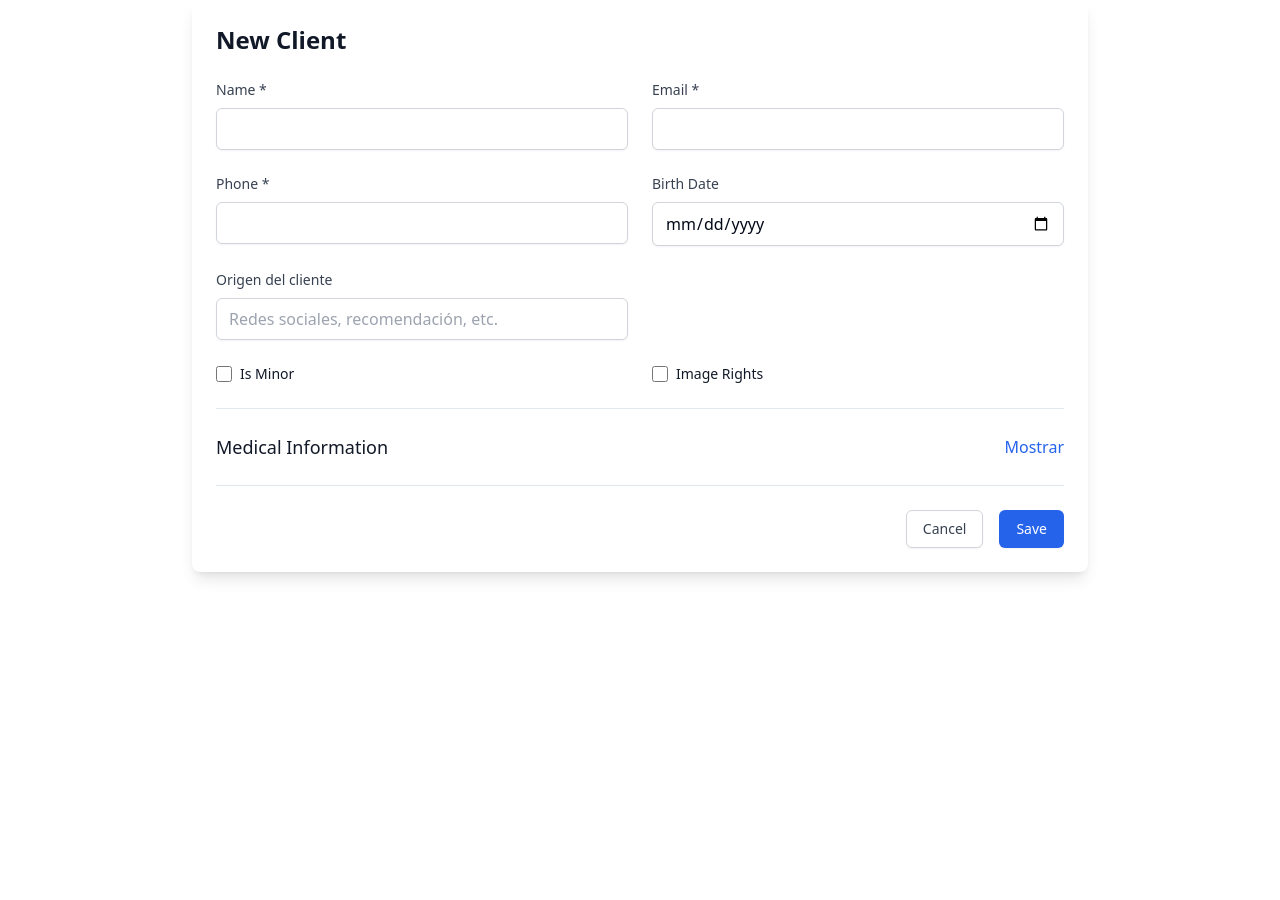
Scenario: ClientForm › should show medical information form when toggled
Click the button "Mostrar".
click(1034, 447)  # box [1004,435,1064,459]
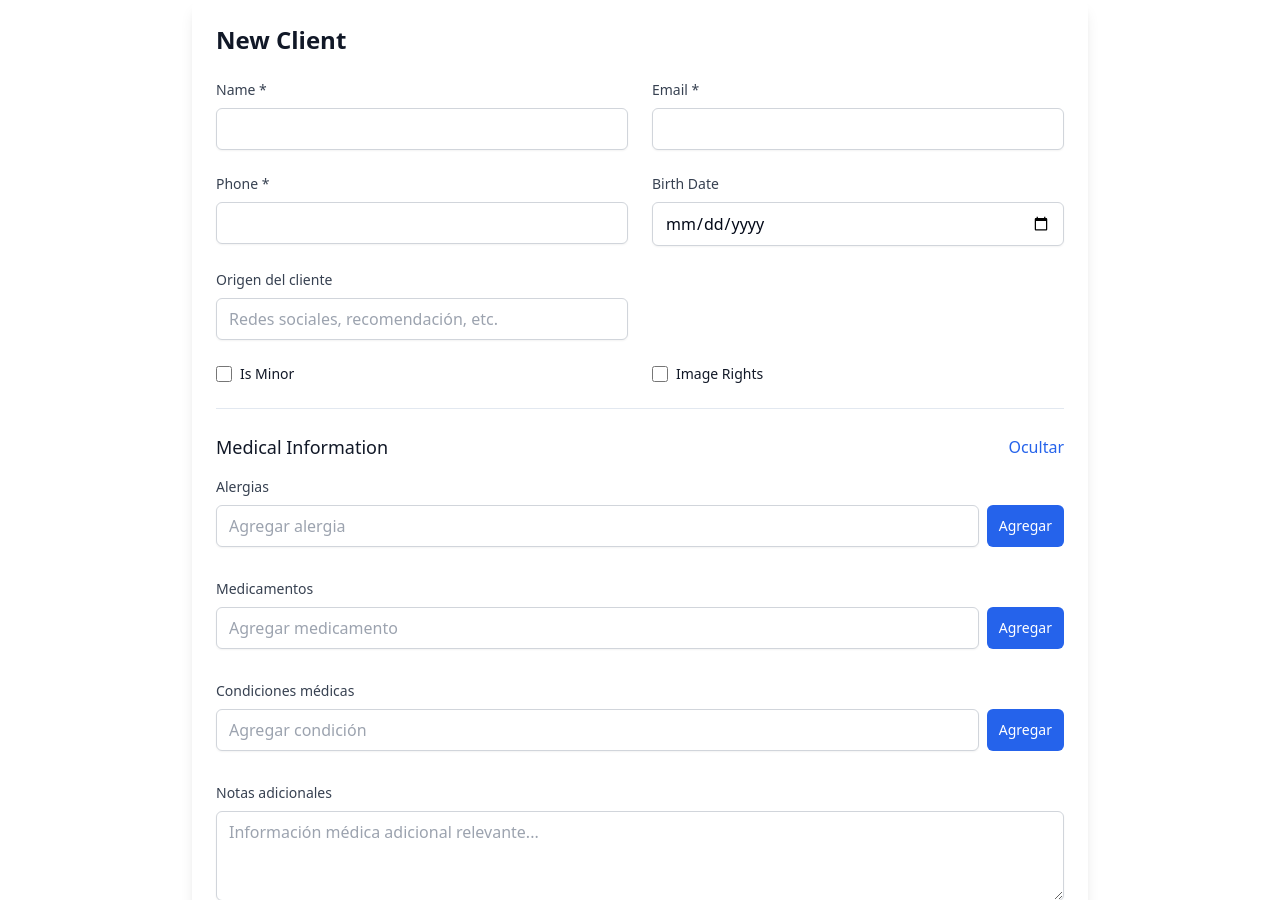
Expected: the text "Alergias" is shown, [216,477,269,496]
Expected: the text "Medicamentos" is shown, [216,579,313,598]
Expected: the text "Condiciones médicas" is shown, [216,681,354,700]
